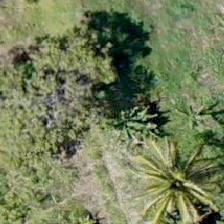Kelapa_Sawit: (82, 77, 172, 167), (127, 137, 218, 223), (148, 73, 223, 164)
